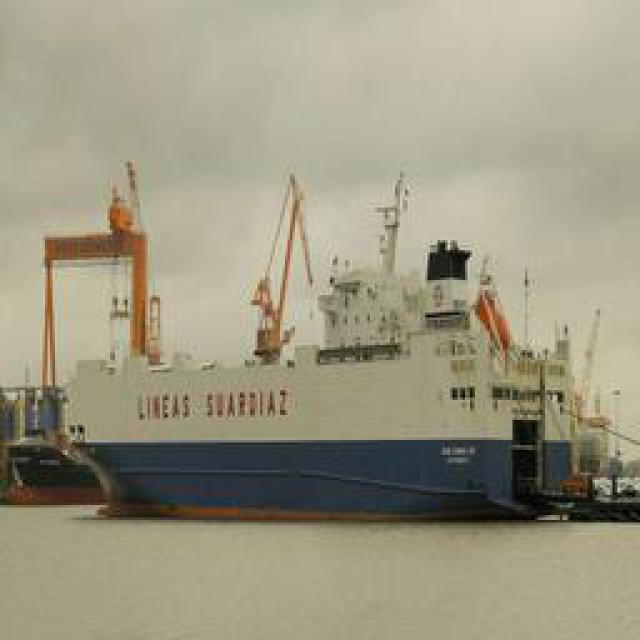Ship: (39, 159, 614, 524)
